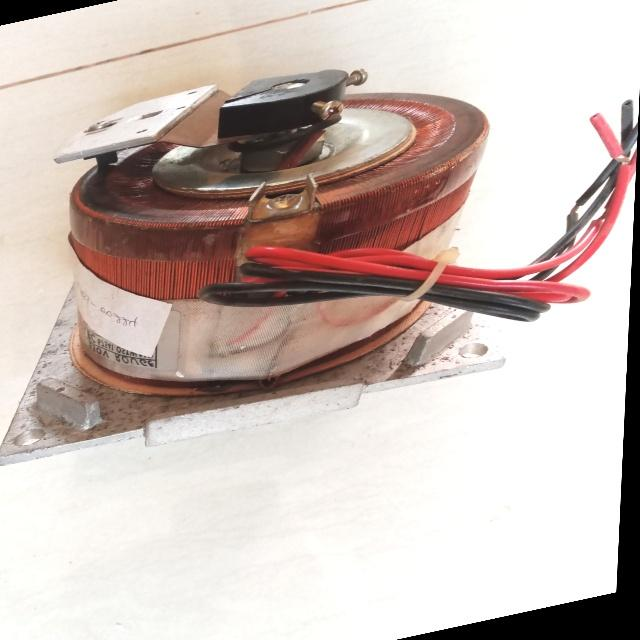AC Transformer: (14, 1, 516, 453)
